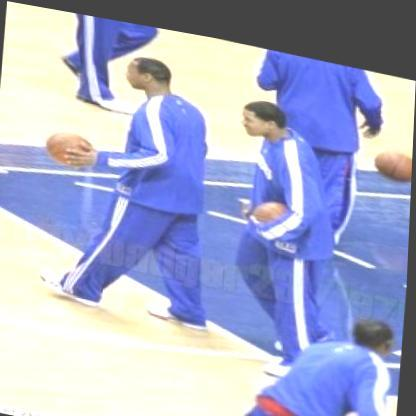basketball: (40, 120, 104, 173), (252, 183, 297, 232), (369, 128, 413, 169)
